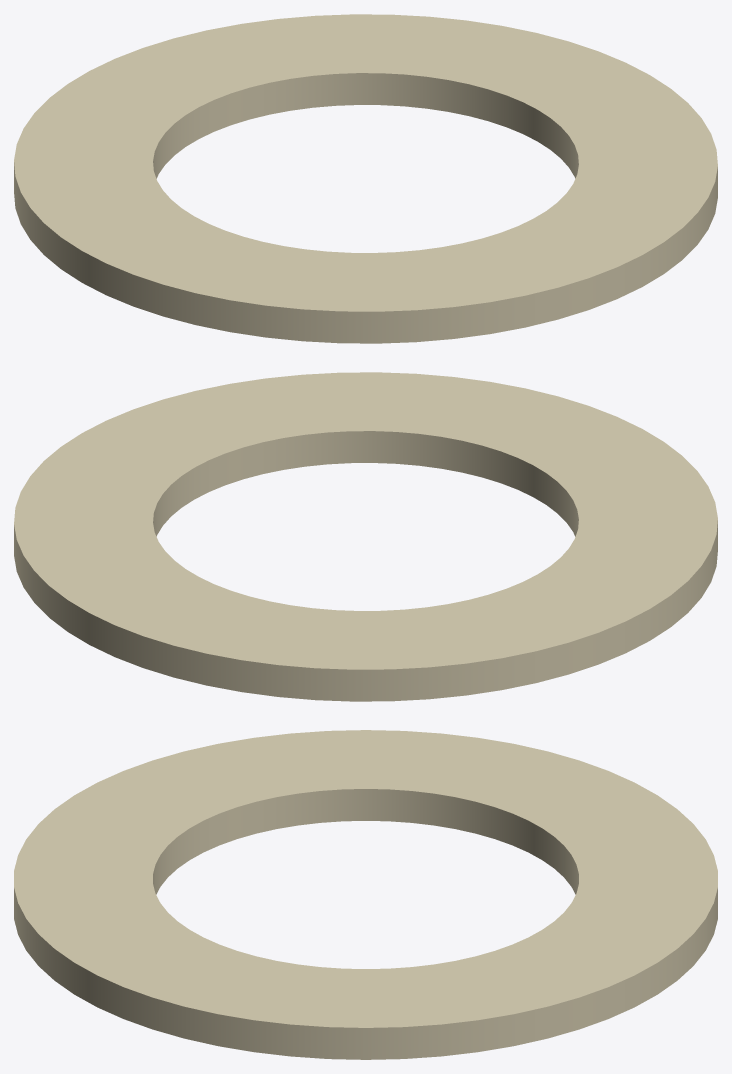
File: distributor-thrust-washer.glb
The picture shows the model from 3 angles, top to bottom: view 1: azimuth 30°, elevation 25°; view 2: azimuth 150°, elevation 25°; view 3: azimuth 270°, elevation 25°; orthographic projection.
Parts seen in each view (by area): view 1: world; view 2: world; view 3: world.
Part boxes in pixels (bbox=[...]): world: bbox=[14, 14, 717, 343]; world: bbox=[14, 372, 717, 701]; world: bbox=[14, 730, 717, 1059].
Size of the model in its own units: 0.02 by 0.001 by 0.02.
